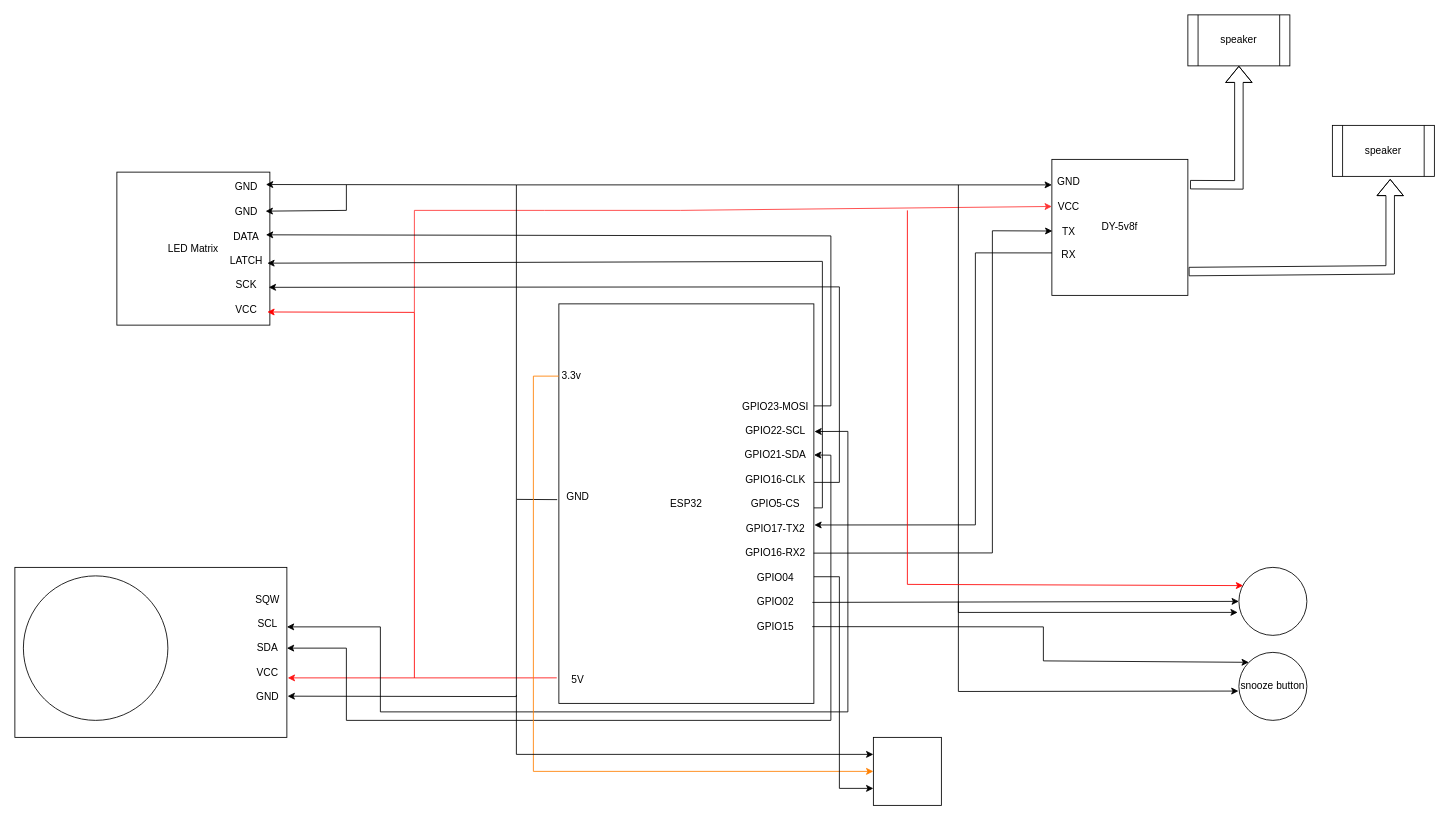
Image size: 1449x820. Some labels were removed from this diagram. The shapes that lost their labels are listed below. From the top down, each one's centre as x and y in pixels, then its label:
point 1272,601: Motion Sensor
point 95,647: CLOCK
point 907,771: DHT11
